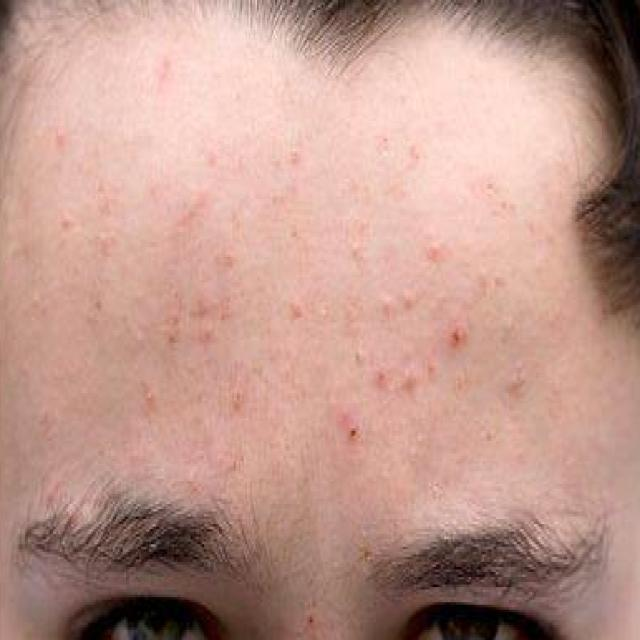fungal: (22, 116, 536, 416)
